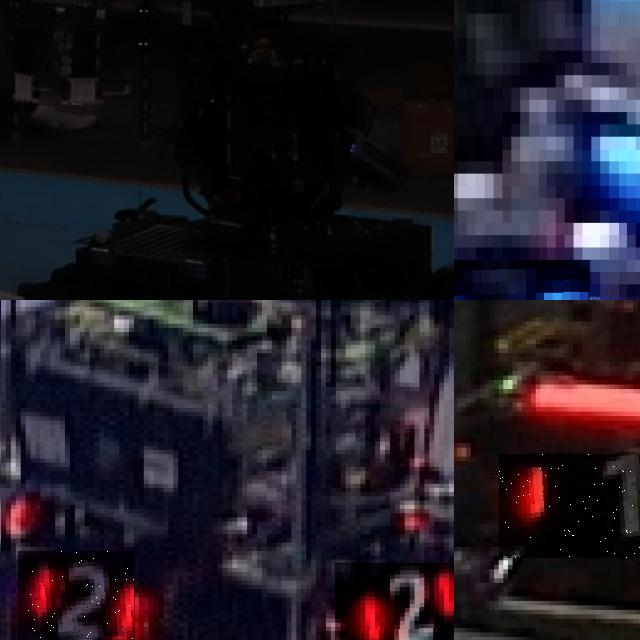B3: (454, 259, 591, 300)
R1: (498, 454, 640, 557)
R2: (18, 551, 136, 640), (335, 563, 454, 640)
